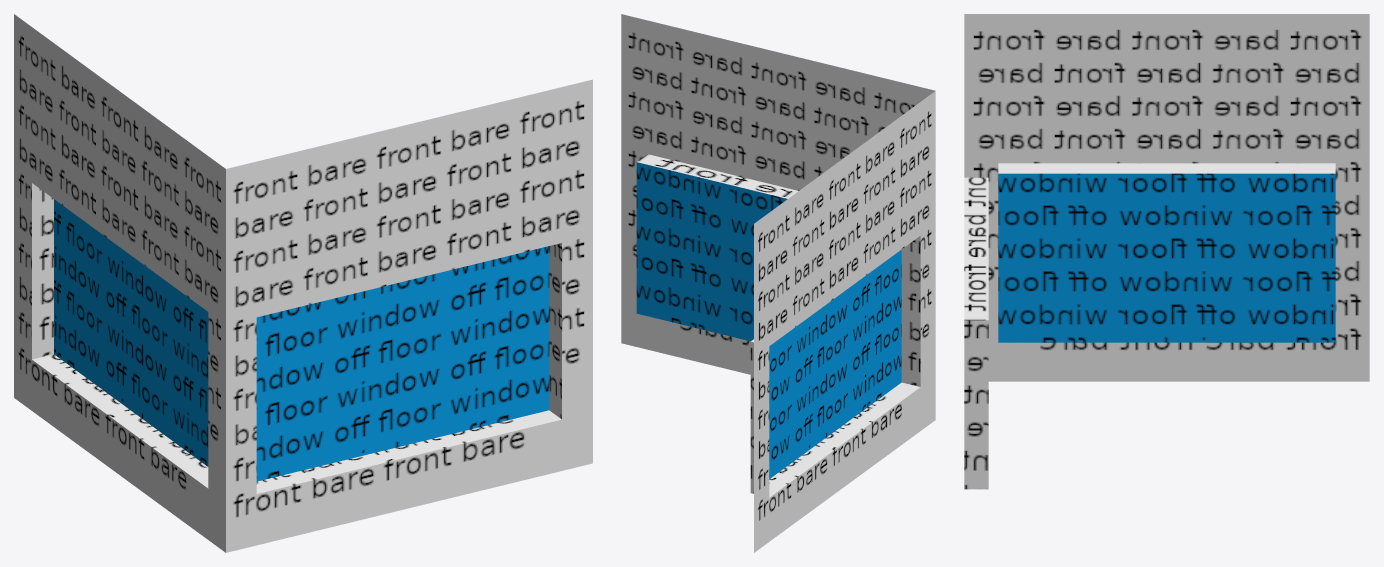
Rendered from corner_window_off_floor.gltf.
3 views of the same model, side by side, from view 1: azimuth 30°, elevation 25°; view 2: azimuth 150°, elevation 25°; view 3: azimuth 270°, elevation 25° (orthographic). The views are drawn at different scales.
Visible parts, largest first — view 1: corner_window_off_floor; view 2: corner_window_off_floor; view 3: corner_window_off_floor.
Part boxes in pixels (<box>): corner_window_off_floor: <box>14,14,592,552</box>; corner_window_off_floor: <box>621,14,935,552</box>; corner_window_off_floor: <box>964,14,1369,489</box>.
Size of the model in its own units: 5 by 5 by 5.
2 materials, 2 textured.
